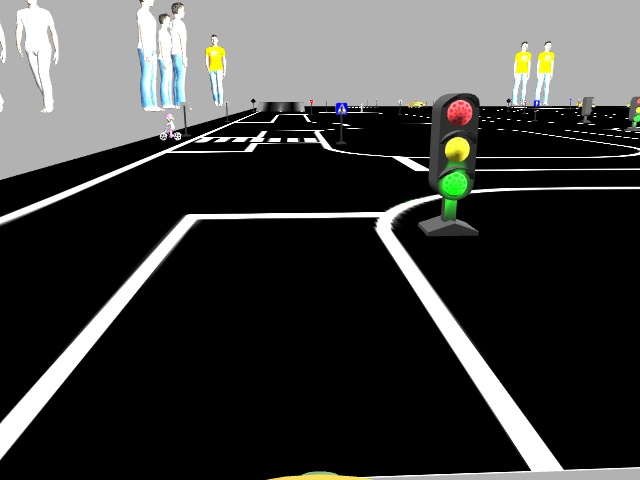Crosswalk: (335, 102, 345, 114)
Pedestrian: (159, 113, 181, 142)
TrafficLight: (428, 93, 477, 198)
